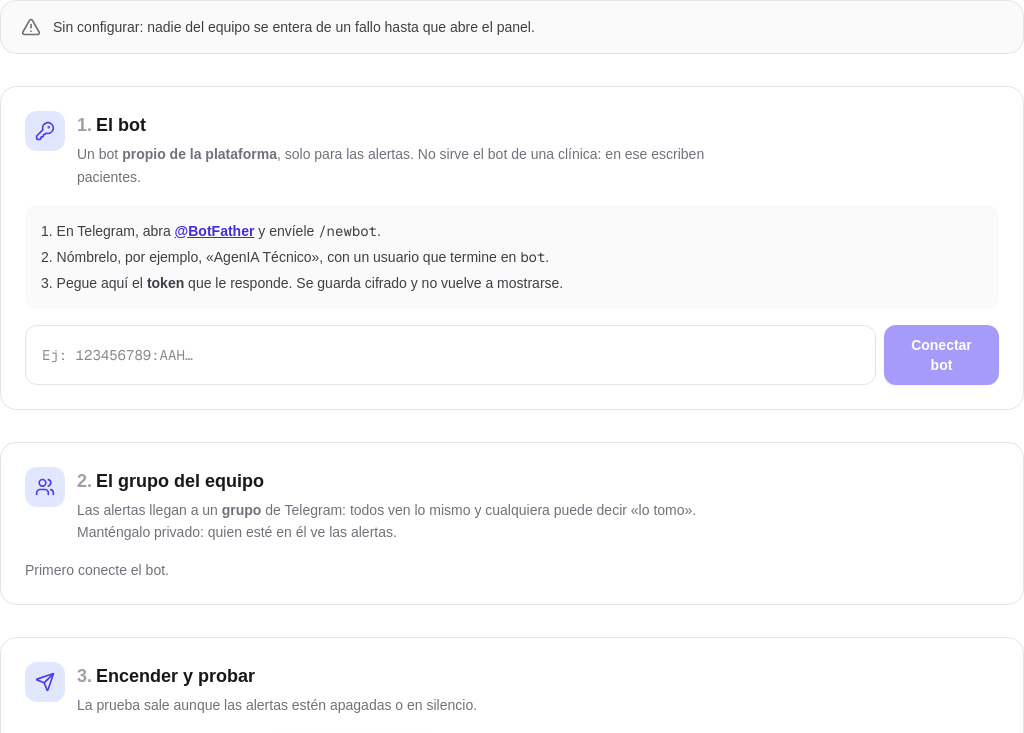
AlertasClient › conectar: manda el token, lo borra del campo y pide vincular el grupo
This screenshot has width=1024, height=733.
Type "555000111:AAHsecreto" into the password field named "Token del bot". click: (450, 354)
box: [25,324,876,384]
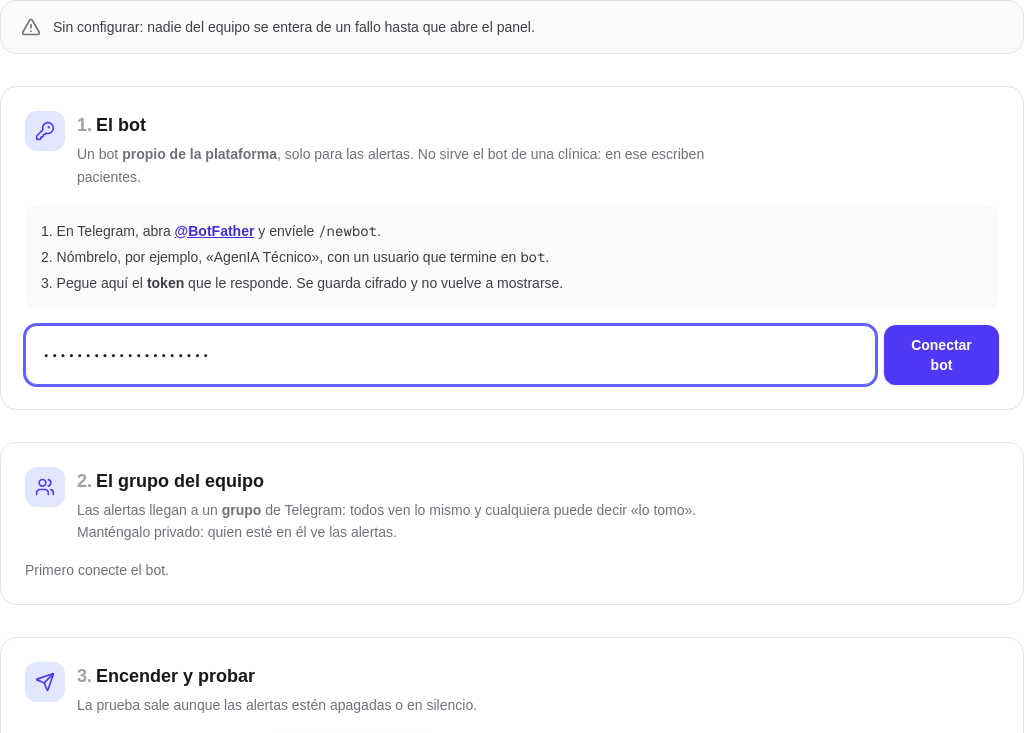
Click the button "Conectar bot". click: (942, 354)
box: [884,324,999,384]
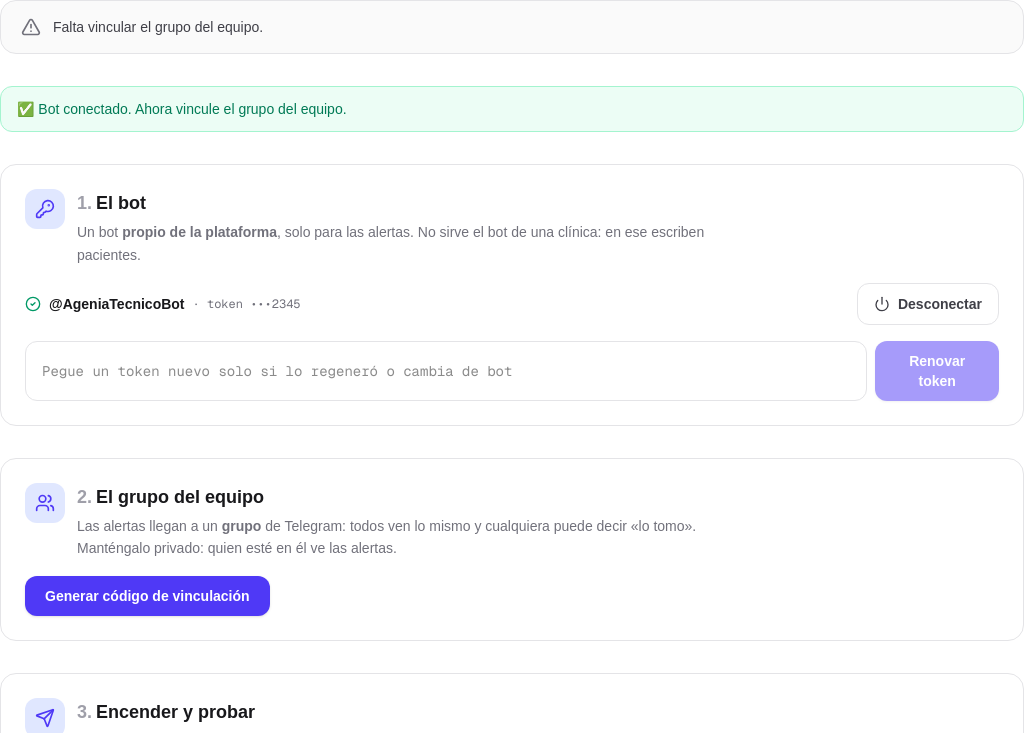
Expected: the text "✅ Bot conectado. Ahora vincule el grupo del equipo." is shown, [0,86,1023,132]
Expected: the password field named "Token del bot" is empty, [25,340,867,400]
Expected: the text "@AgeniaTecnicoBot" is shown, [49,294,184,314]
